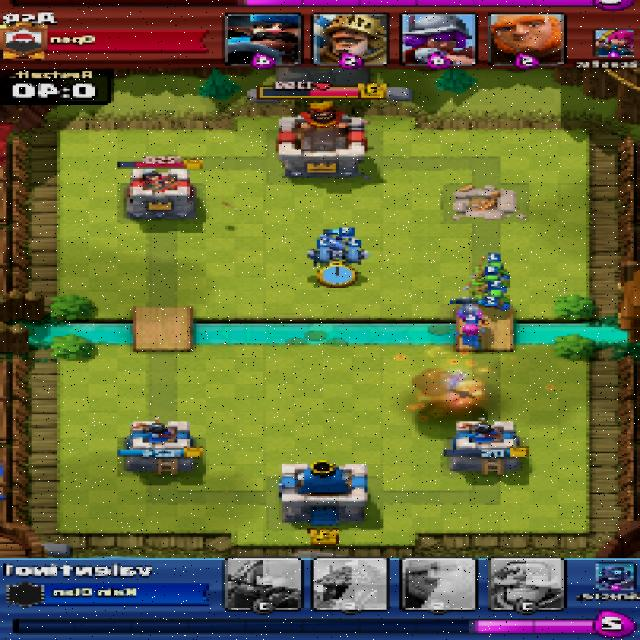Enemy-Fireball: (407, 376, 497, 414)
Player-Archer: (456, 325, 490, 346)
Player-Minion: (308, 247, 332, 267), (322, 235, 353, 250), (338, 248, 365, 264)
Player-Musketeer: (459, 296, 488, 324)
Player-SpearGoblin: (469, 261, 512, 278), (471, 274, 508, 293), (484, 291, 509, 309)
